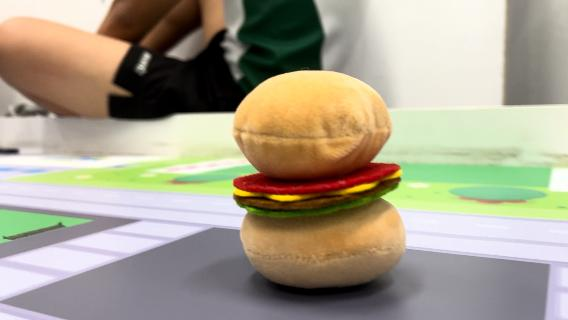burger: (225, 66, 413, 290)
